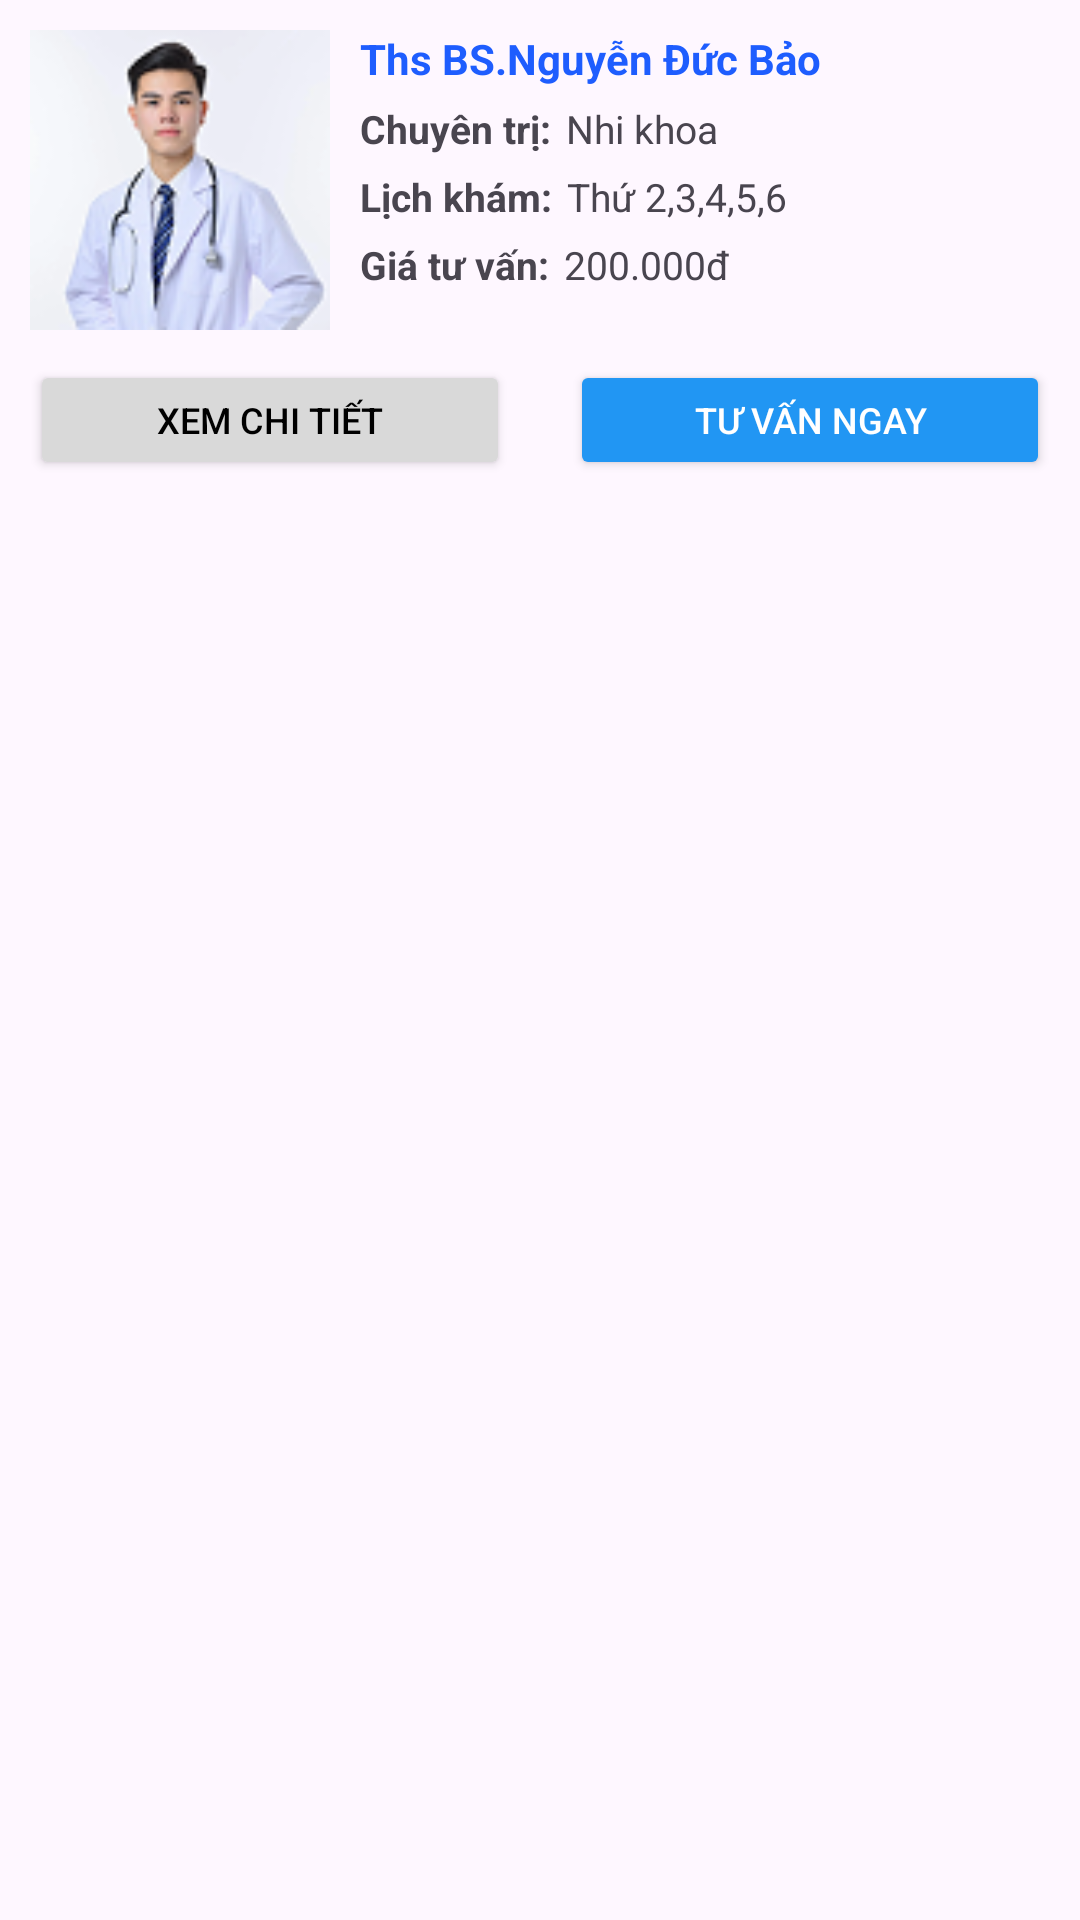

Named icons in this screenshot (1080*1920) and their bounding boxes, (x1, y1, x2, y2):
nenbacsi: (64, 41, 325, 330)
